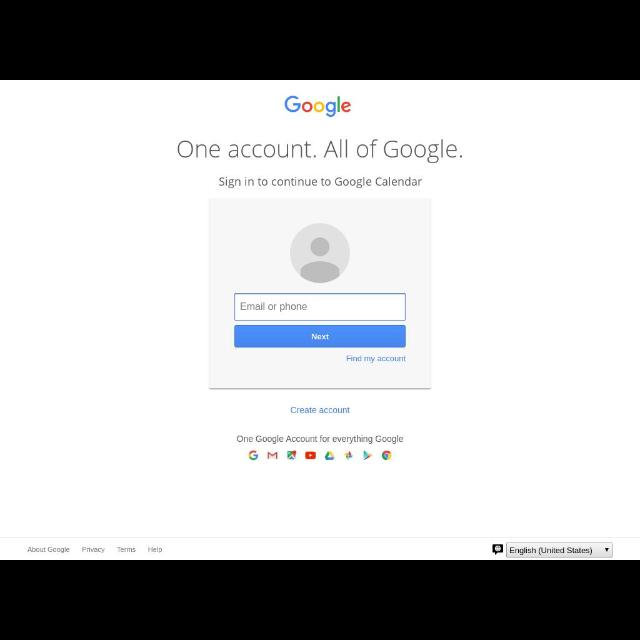icon: (492, 544, 504, 554), (604, 548, 610, 552)
image: (290, 223, 350, 283), (284, 94, 352, 116), (381, 451, 392, 461), (286, 451, 296, 461), (362, 451, 372, 461), (267, 452, 277, 461), (249, 448, 257, 459), (306, 452, 316, 460), (345, 451, 353, 461), (325, 452, 333, 461)
input: (236, 294, 406, 320)
spinner: (506, 544, 612, 556)
text: (177, 138, 465, 164), (219, 176, 423, 188), (237, 434, 406, 444), (509, 548, 593, 556), (240, 302, 306, 312), (291, 406, 351, 416), (347, 356, 408, 364), (28, 546, 70, 554), (117, 546, 135, 556), (146, 546, 164, 554), (310, 334, 330, 341), (83, 546, 105, 552)
textbutton: (235, 324, 405, 348)
